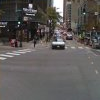crosswalk: (0, 48, 38, 60), (64, 46, 88, 48)
